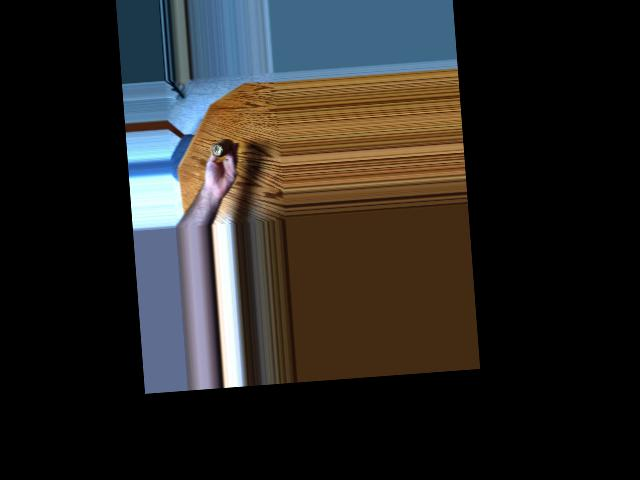sweet_potato: (206, 135, 235, 164)
